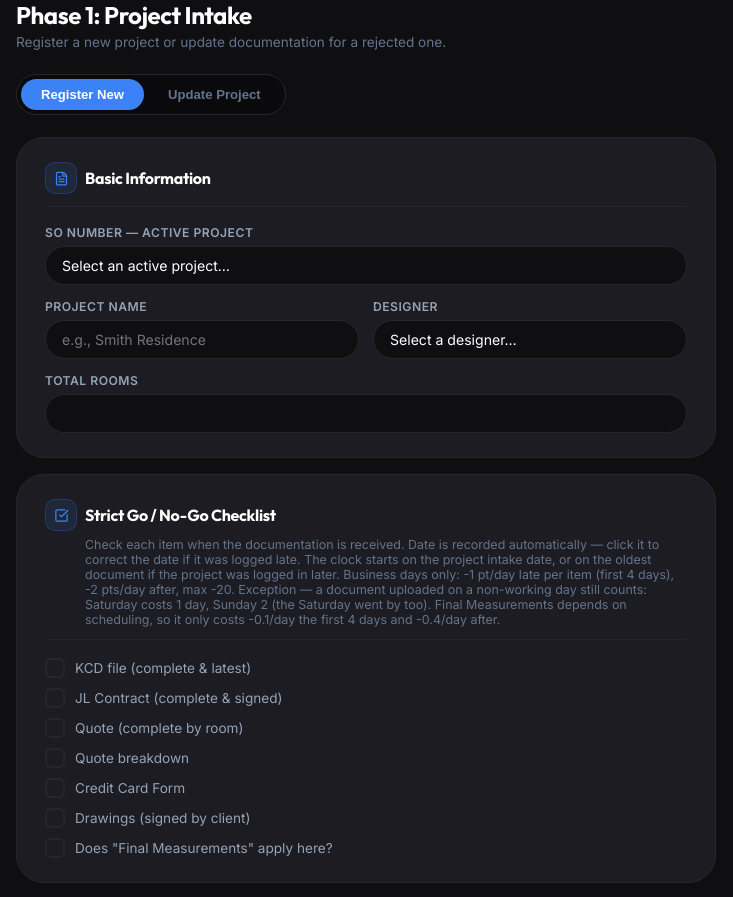
cambiar de proyecto en Register New › carga la complejidad guardada del proyecto elegido
Select "#1001 — Alpha Residence (Monica Gabriel)" in the dropdown named "soNumber" below "SO Number — Active Project" at (366, 266), box [45,246,687,285]
(page scrolled)
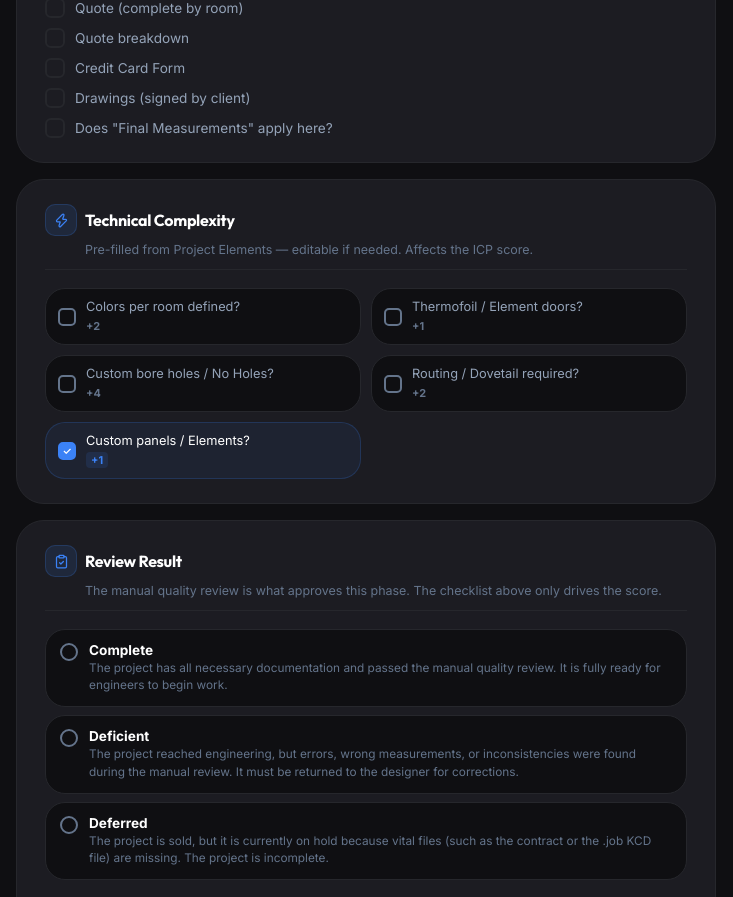
Now the checkbox labelled "✓ Custom panels / Elements? +1" is checked, box [45,422,361,479]
